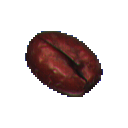ng: (19, 26, 112, 104)
